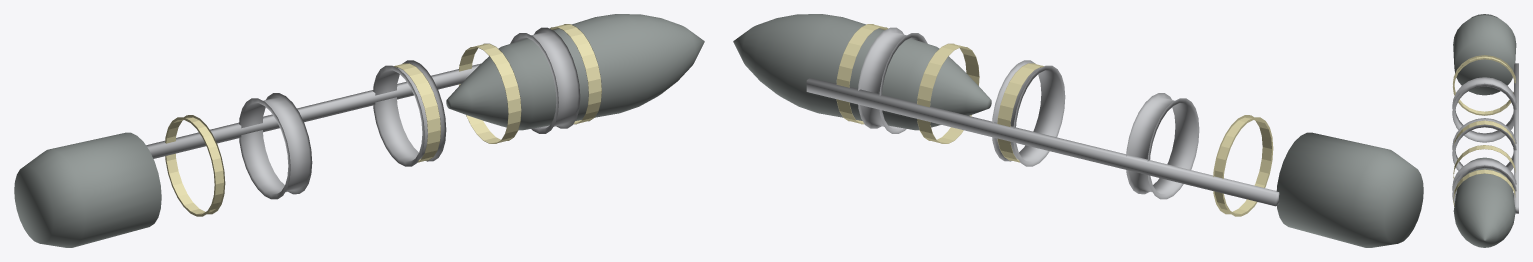
Rendered from RU_SLBM_R29RMU2_Sineva_LOD1.fbx.
The picture shows the model from 3 angles, left to right: view 1: azimuth 30°, elevation 25°; view 2: azimuth 150°, elevation 25°; view 3: azimuth 270°, elevation 25°; orthographic projection. The views are drawn at different scales.
Visible parts, largest first — view 1: WPN_RU_SLBM_R29RMU2_Sineva_LOD1_Body, WPN_RU_SLBM_R29RMU2_Sineva_LOD1_Detail, WPN_RU_SLBM_R29RMU2_Sineva_LOD1_Tail, WPN_RU_SLBM_R29RMU2_Sineva_LOD1_Marking; view 2: WPN_RU_SLBM_R29RMU2_Sineva_LOD1_Detail, WPN_RU_SLBM_R29RMU2_Sineva_LOD1_Body, WPN_RU_SLBM_R29RMU2_Sineva_LOD1_Tail, WPN_RU_SLBM_R29RMU2_Sineva_LOD1_Marking; view 3: WPN_RU_SLBM_R29RMU2_Sineva_LOD1_Body, WPN_RU_SLBM_R29RMU2_Sineva_LOD1_Tail, WPN_RU_SLBM_R29RMU2_Sineva_LOD1_Detail, WPN_RU_SLBM_R29RMU2_Sineva_LOD1_Marking.
Boxes of the visible parts, left/top/right/bottom form: WPN_RU_SLBM_R29RMU2_Sineva_LOD1_Body: left=446, top=14, right=704, bottom=130; WPN_RU_SLBM_R29RMU2_Sineva_LOD1_Detail: left=146, top=27, right=580, bottom=199; WPN_RU_SLBM_R29RMU2_Sineva_LOD1_Tail: left=14, top=132, right=161, bottom=247; WPN_RU_SLBM_R29RMU2_Sineva_LOD1_Marking: left=165, top=24, right=601, bottom=216; WPN_RU_SLBM_R29RMU2_Sineva_LOD1_Detail: left=806, top=27, right=1279, bottom=206; WPN_RU_SLBM_R29RMU2_Sineva_LOD1_Body: left=733, top=14, right=991, bottom=130; WPN_RU_SLBM_R29RMU2_Sineva_LOD1_Tail: left=1276, top=132, right=1423, bottom=247; WPN_RU_SLBM_R29RMU2_Sineva_LOD1_Marking: left=836, top=24, right=1273, bottom=216; WPN_RU_SLBM_R29RMU2_Sineva_LOD1_Body: left=1453, top=157, right=1515, bottom=247; WPN_RU_SLBM_R29RMU2_Sineva_LOD1_Tail: left=1453, top=14, right=1516, bottom=95; WPN_RU_SLBM_R29RMU2_Sineva_LOD1_Detail: left=1452, top=63, right=1518, bottom=213; WPN_RU_SLBM_R29RMU2_Sineva_LOD1_Marking: left=1453, top=55, right=1515, bottom=206.
Bounding box in the file's own units: 14.8 × 2.04 × 2.
